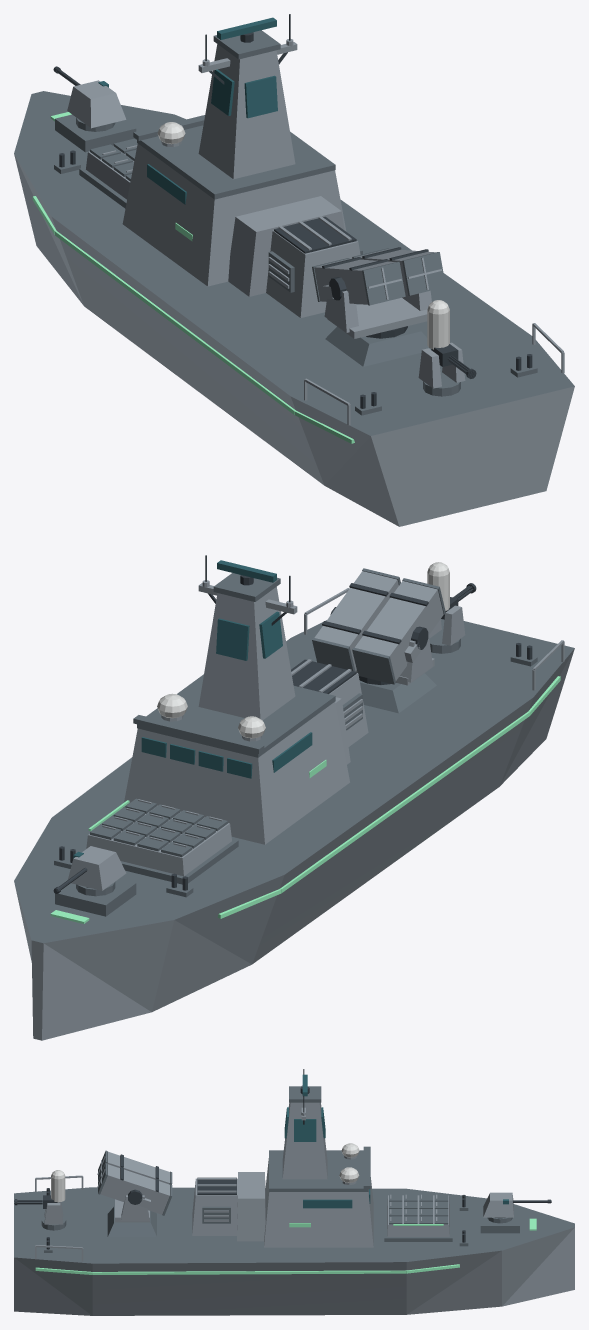
File: ESC_CAP_T3.fbx
3 views of the same model, one above another, from view 1: azimuth 30°, elevation 25°; view 2: azimuth 150°, elevation 25°; view 3: azimuth 270°, elevation 25° (orthographic). The views are drawn at different scales.
Parts seen in each view (by area): view 1: ContinuousHull.003, Deckhouse.003, IntegratedRadarEnclosure.001, Roof.003, AftServiceCabin.003, FunnelEnclosure.003, SAMFixedPedestal.002, SAMSlewTable, PrimaryGunCupola.003, RoleHullStripe-1_1, PrimaryGunDeckPlinth, SAMCanisterBank_02 (+10 smaller); view 2: ContinuousHull.003, Deckhouse.003, IntegratedRadarEnclosure.001, Roof.003, SAMCanisterBank_02, SAMCanisterBank_01, ForwardVLSCasing.003, PrimaryGunCupola.003, SAMFixedPedestal.002, PrimaryGunDeckPlinth, RoleHullStripe-1_1, BridgeBrow (+11 smaller); view 3: ContinuousHull.003, Deckhouse.003, IntegratedRadarEnclosure.001, Roof.003, AftServiceCabin.003, SAMCanisterBank_01, FunnelEnclosure.003, RoleHullStripe1_1, ForwardVLSCasing.003, SAMFixedPedestal.002, SAMCanisterBank_02, PrimaryGunCupola.003 (+11 smaller).
Part boxes in pixels (x1,y1,x2,y2): ContinuousHull.003: [14, 91, 574, 526]; Deckhouse.003: [122, 143, 346, 286]; IntegratedRadarEnclosure.001: [198, 44, 295, 179]; Roof.003: [137, 125, 335, 199]; AftServiceCabin.003: [228, 196, 344, 296]; FunnelEnclosure.003: [266, 230, 360, 317]; SAMFixedPedestal.002: [325, 325, 431, 366]; SAMSlewTable: [327, 297, 427, 338]; PrimaryGunCupola.003: [67, 80, 126, 128]; RoleHullStripe-1_1: [55, 231, 295, 414]; PrimaryGunDeckPlinth: [55, 114, 136, 152]; SAMCanisterBank_02: [314, 258, 395, 304]; ContinuousHull.003: [14, 619, 574, 1040]; Deckhouse.003: [123, 702, 349, 844]; IntegratedRadarEnclosure.001: [198, 587, 295, 720]; Roof.003: [137, 674, 335, 757]; SAMCanisterBank_02: [355, 581, 443, 680]; SAMCanisterBank_01: [314, 571, 398, 671]; ForwardVLSCasing.003: [86, 805, 231, 876]; PrimaryGunCupola.003: [68, 846, 126, 890]; SAMFixedPedestal.002: [359, 673, 436, 713]; PrimaryGunDeckPlinth: [55, 879, 136, 916]; RoleHullStripe-1_1: [280, 711, 529, 893]; BridgeBrow: [133, 715, 264, 753]; ContinuousHull.003: [14, 1187, 574, 1315]; Deckhouse.003: [264, 1158, 373, 1247]; IntegratedRadarEnclosure.001: [282, 1102, 327, 1179]; Roof.003: [269, 1150, 368, 1191]; AftServiceCabin.003: [237, 1172, 265, 1241]; SAMCanisterBank_01: [100, 1164, 169, 1214]; FunnelEnclosure.003: [192, 1178, 237, 1235]; RoleHullStripe1_1: [92, 1270, 406, 1274]; ForwardVLSCasing.003: [387, 1195, 449, 1236]; SAMFixedPedestal.002: [107, 1206, 156, 1236]; SAMCanisterBank_02: [107, 1151, 169, 1184]; PrimaryGunCupola.003: [483, 1192, 513, 1217].
Size of the model in its own units: 290 by 365 by 900.
